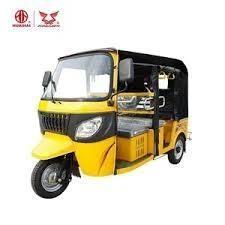keke: (27, 48, 189, 206)
